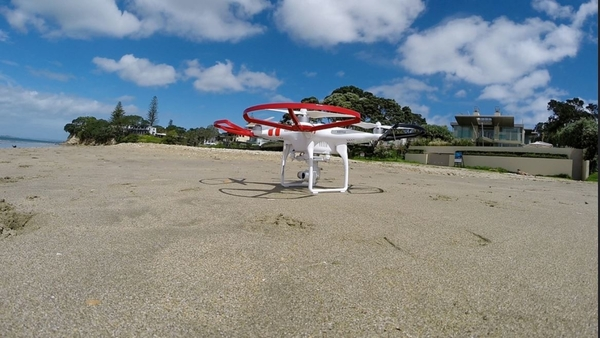drone: (212, 101, 426, 196)
